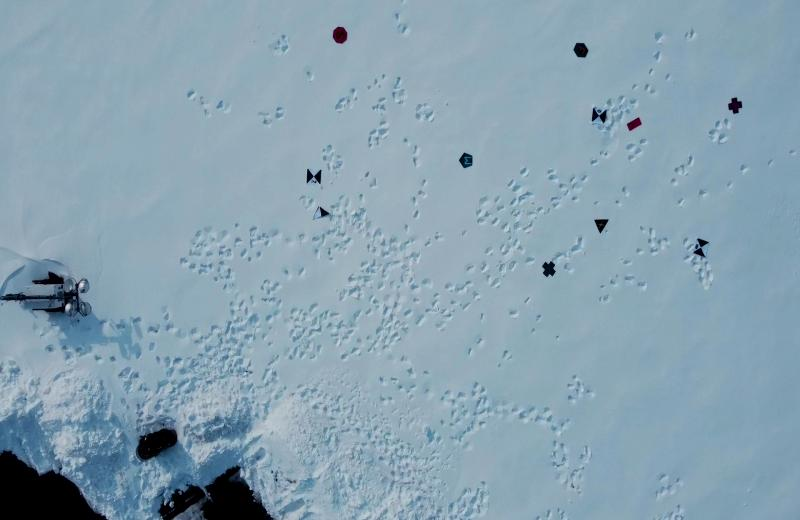Cross: (541, 260, 558, 278), (728, 97, 744, 115)
Hexagon: (572, 40, 588, 58)
Octagon: (331, 26, 350, 45)
Pentagon: (458, 149, 476, 170)
Rectangle: (626, 116, 643, 130)
Triangle: (594, 217, 610, 237)
